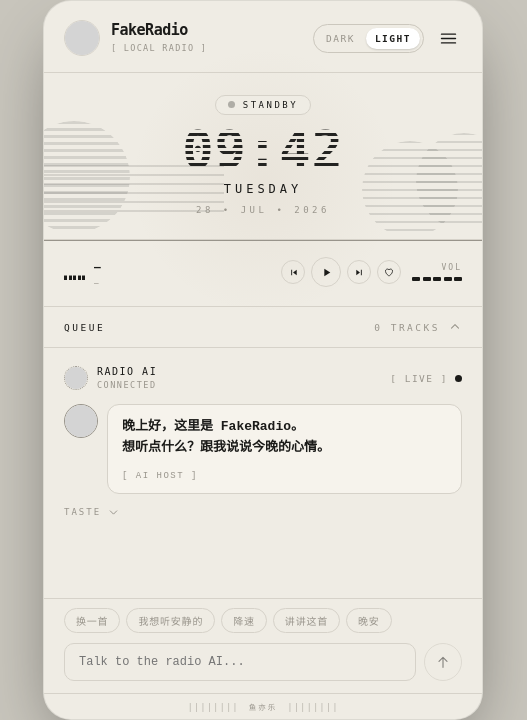
EditorialRadio phone-frame runtime wiring › expands the queue bar to show the real (empty) queue
Click the button "QUEUE 0 TRACKS" at point(85, 327), box [44,307,482,347]
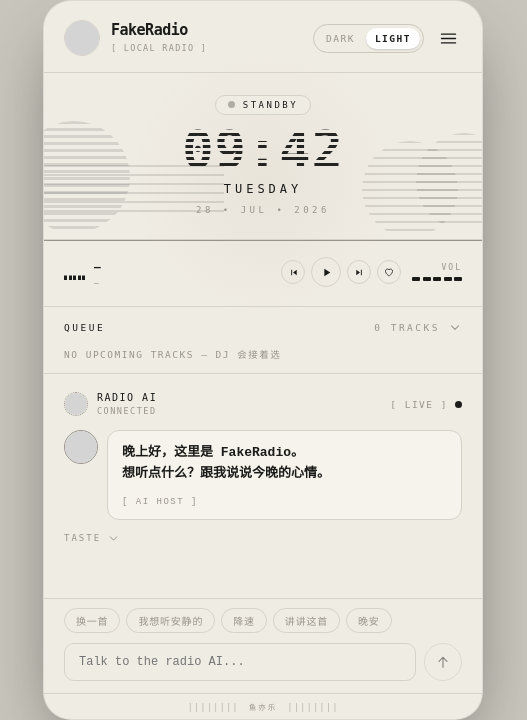
Expected: the text "NO UPCOMING TRACKS — DJ 会接着选" is shown, [64,349,281,360]
